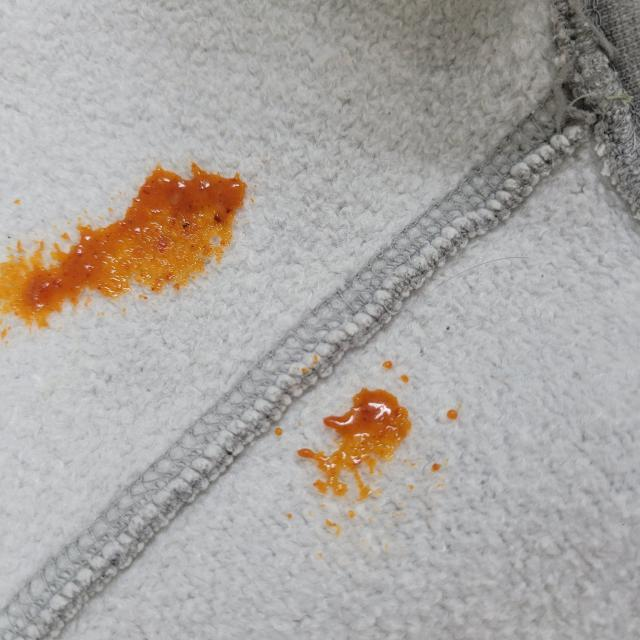Stain: (0, 158, 256, 330), (274, 353, 456, 543)
seam: (2, 66, 603, 638), (541, 0, 639, 221)
